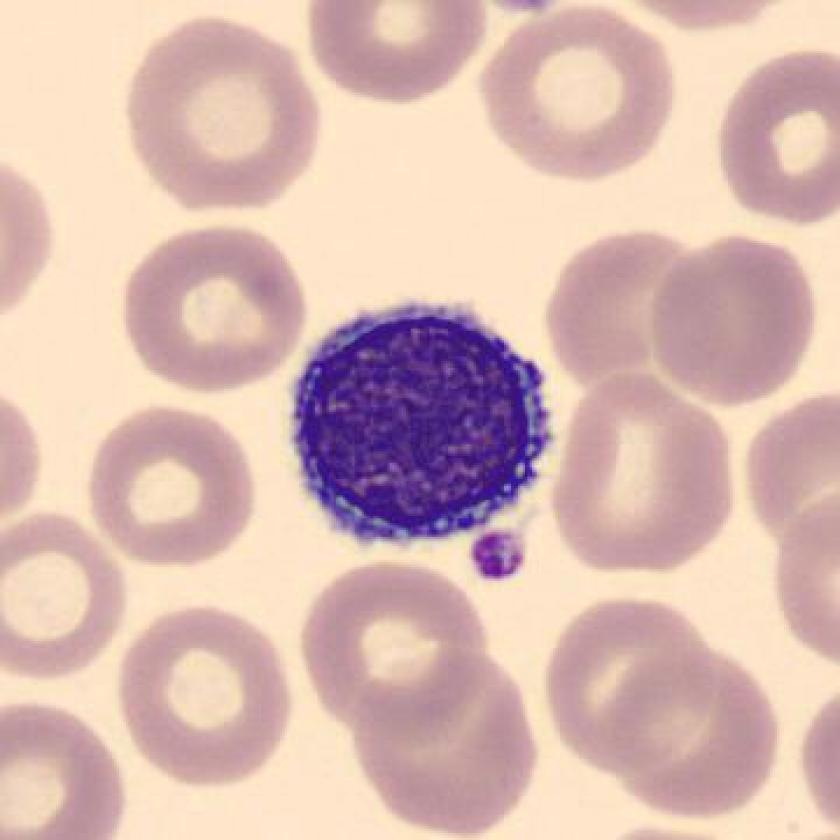lymphocyte: (279, 288, 566, 554)
platelets: (469, 529, 540, 585)
